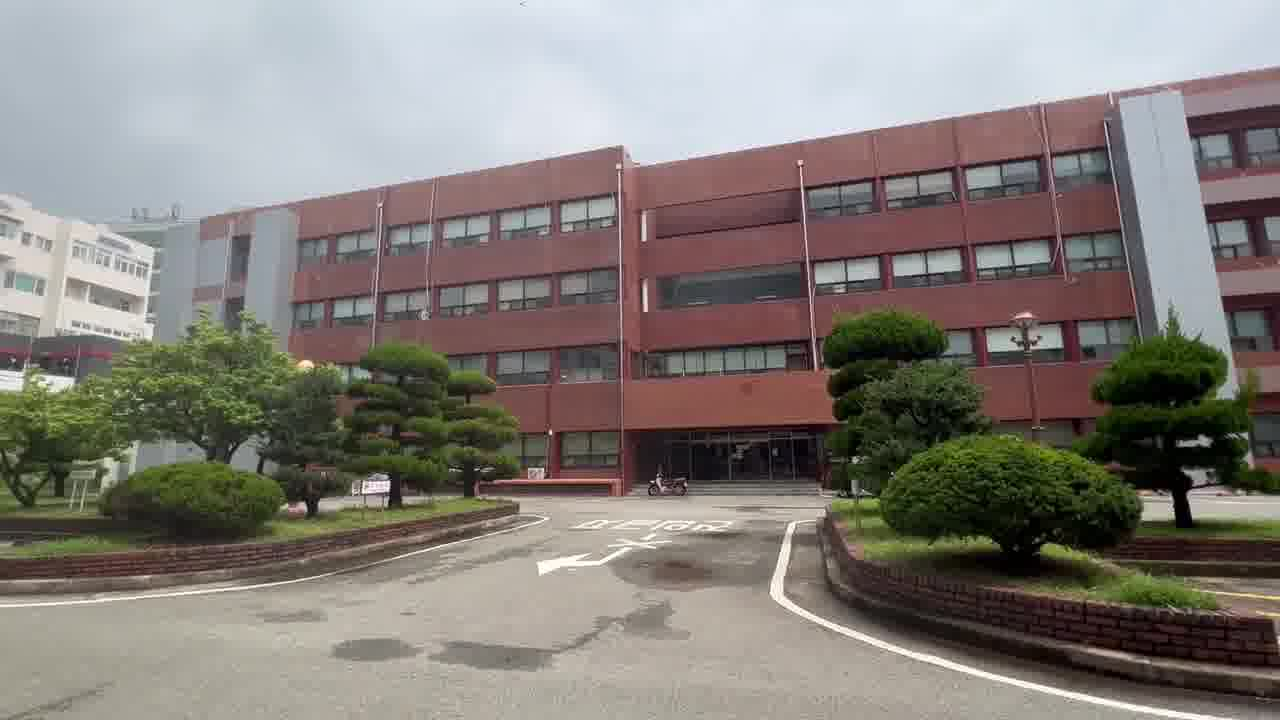low: (206, 107, 1280, 311)
